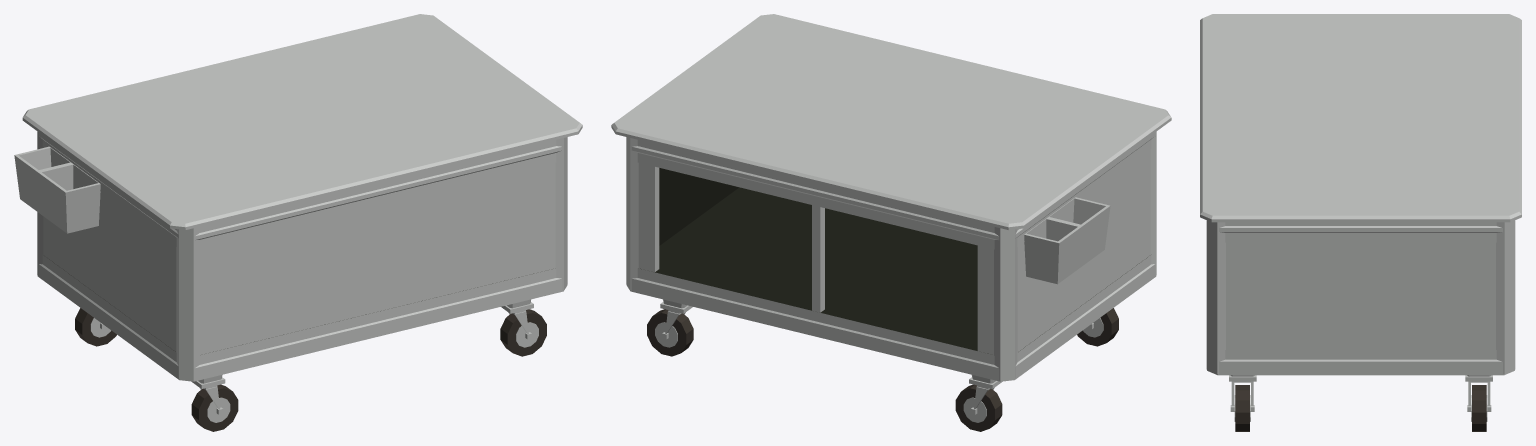
File: SM_Cart_Body_Caster_01.fbx
3 views of the same model, side by side, from view 1: azimuth 30°, elevation 25°; view 2: azimuth 150°, elevation 25°; view 3: azimuth 270°, elevation 25° (orthographic).
Parts seen in each view (by area): view 1: SM_Cart_Body_Caster_01; view 2: SM_Cart_Body_Caster_01; view 3: SM_Cart_Body_Caster_01.
Boxes of the visible parts, x1,y1,x2,y2 form: SM_Cart_Body_Caster_01: [14, 14, 582, 431]; SM_Cart_Body_Caster_01: [611, 14, 1171, 431]; SM_Cart_Body_Caster_01: [1200, 14, 1521, 431].
Bounding box in the file's own units: 1.55 × 0.786 × 0.98.
1 material, 1 textured.
